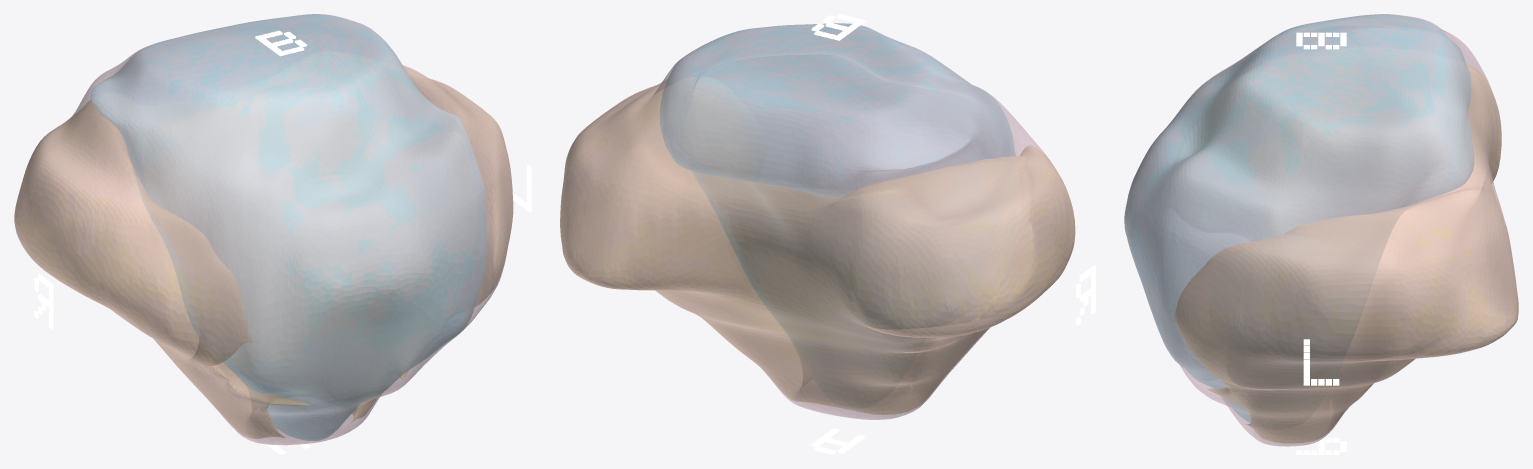
3 renders of one model, left to right at view 1: azimuth 30°, elevation 25°; view 2: azimuth 150°, elevation 25°; view 3: azimuth 270°, elevation 25°, orthographic. The views are drawn at different scales.
Visible parts, largest first — view 1: prostate_gland, transition_zone, peripheral_zone, pv_ar_marker_B, pv_ar_marker_R; view 2: prostate_gland, peripheral_zone, transition_zone, pv_ar_marker_B, pv_ar_marker_R, pv_ar_marker_A; view 3: prostate_gland, transition_zone, peripheral_zone, pv_ar_marker_B, pv_ar_marker_L, pv_ar_marker_A.
Boxes of the visible parts, bbox=[...] form: prostate_gland: bbox=[14, 14, 513, 445]; transition_zone: bbox=[91, 14, 486, 440]; peripheral_zone: bbox=[14, 67, 513, 438]; pv_ar_marker_B: bbox=[255, 30, 306, 56]; pv_ar_marker_R: bbox=[34, 274, 53, 329]; prostate_gland: bbox=[560, 23, 1074, 419]; peripheral_zone: bbox=[560, 85, 1075, 414]; transition_zone: bbox=[660, 23, 1015, 335]; pv_ar_marker_B: bbox=[811, 14, 865, 40]; pv_ar_marker_R: bbox=[1076, 265, 1095, 325]; pv_ar_marker_A: bbox=[811, 428, 865, 454]; prostate_gland: bbox=[1124, 14, 1518, 446]; transition_zone: bbox=[1124, 14, 1473, 422]; peripheral_zone: bbox=[1174, 63, 1518, 443]; pv_ar_marker_B: bbox=[1296, 32, 1346, 49]; pv_ar_marker_L: bbox=[1303, 339, 1339, 385]; pv_ar_marker_A: bbox=[1296, 438, 1346, 454].
Size of the model in its own units: 0.0558 by 0.0445 by 0.039.
